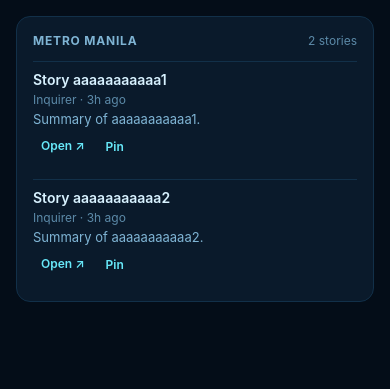
Test: says why a pin was refused, and reads the beat again
Expected: the text "Story aaaaaaaaaaa1" is shown, top-left (33, 71), bottom-right (167, 88)
Click the button with test id "news-pin-aaaaaaaaaaa1": (115, 146) top-left (96, 134), bottom-right (133, 159)
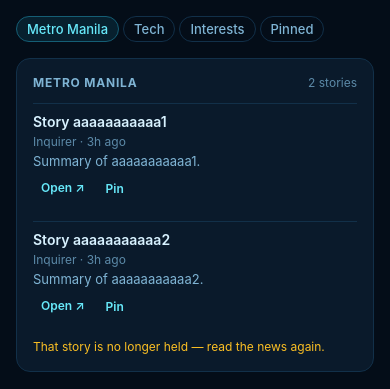
Expected: the text "Pin" below "Summary of aaaaaaaaaaa1." is shown, top-left (106, 181), bottom-right (124, 196)
Result: the text "That story is no longer held — read the news again." is shown at top-left (33, 339), bottom-right (357, 355)
